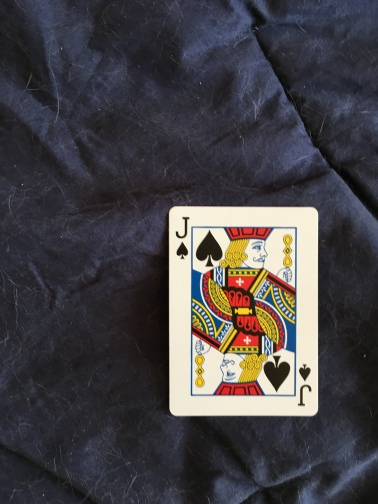jack: (167, 203, 320, 415)
